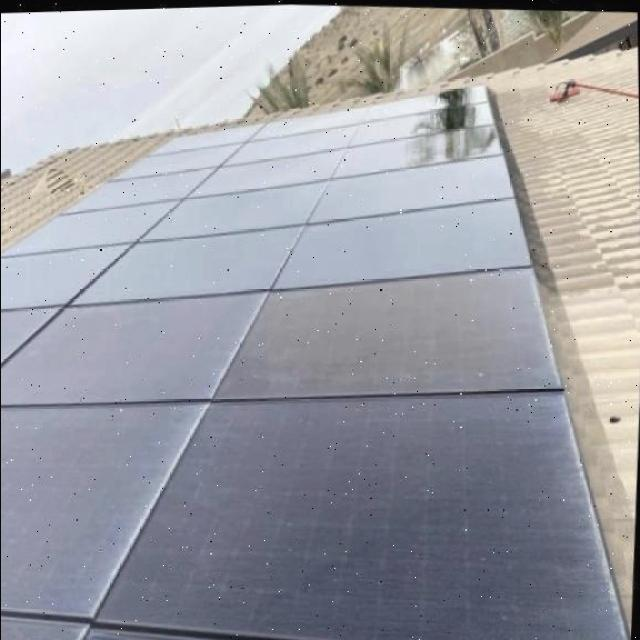Surface Contaminant: (210, 268, 563, 398)
